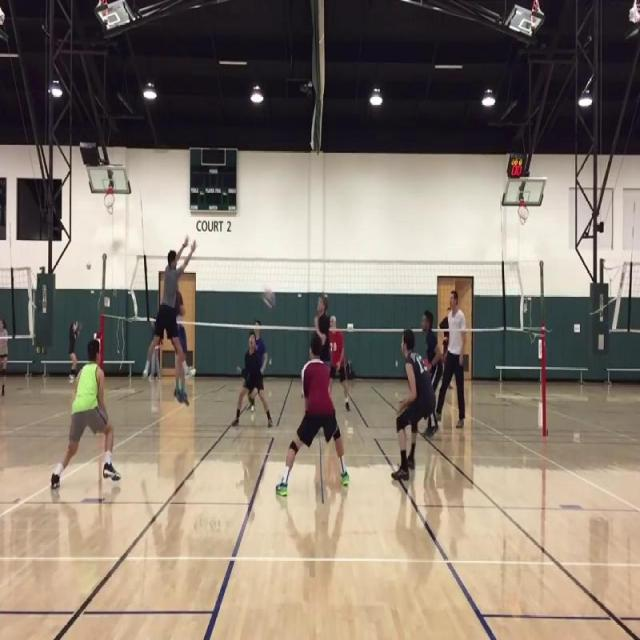volleyball: (264, 290, 275, 308)
